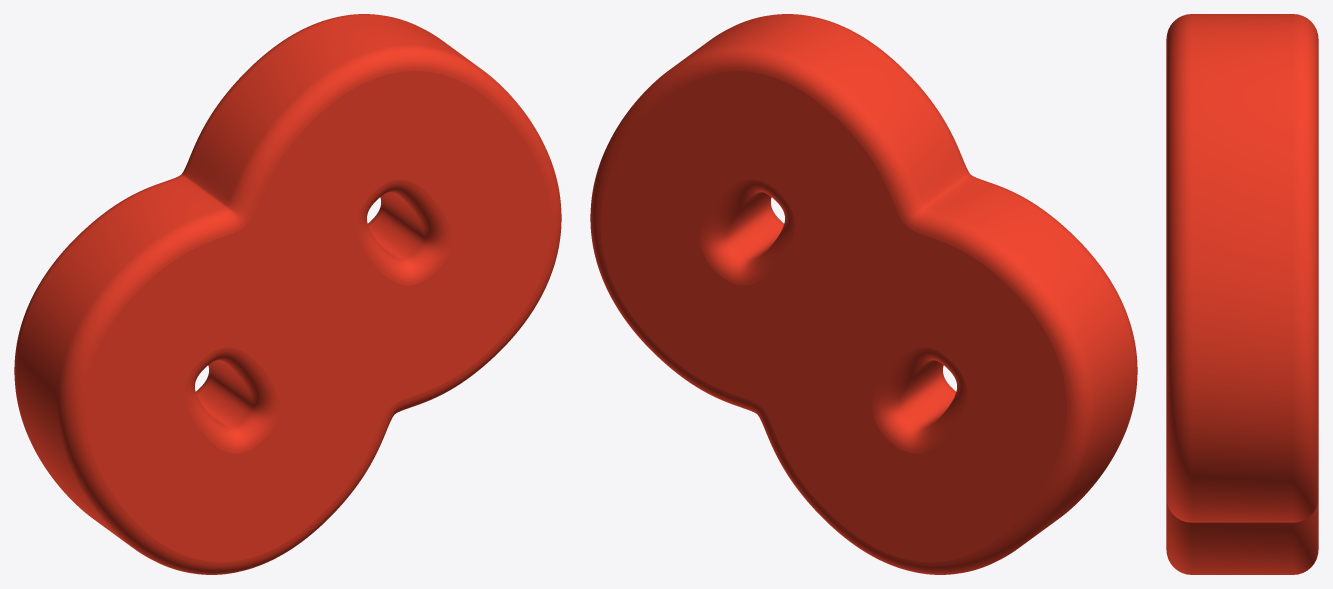
The picture shows the model from 3 angles, left to right: view 1: azimuth 30°, elevation 25°; view 2: azimuth 150°, elevation 25°; view 3: azimuth 270°, elevation 25°; orthographic projection. The views are drawn at different scales.
Parts seen in each view (by area): view 1: link; view 2: link; view 3: link.
Boxes of the visible parts, box(x1,y1,x2,y2) form: link: box(14, 14, 561, 574); link: box(590, 14, 1137, 574); link: box(1166, 14, 1318, 574).
Size of the model in its own units: 2.15 by 2 by 0.45.
